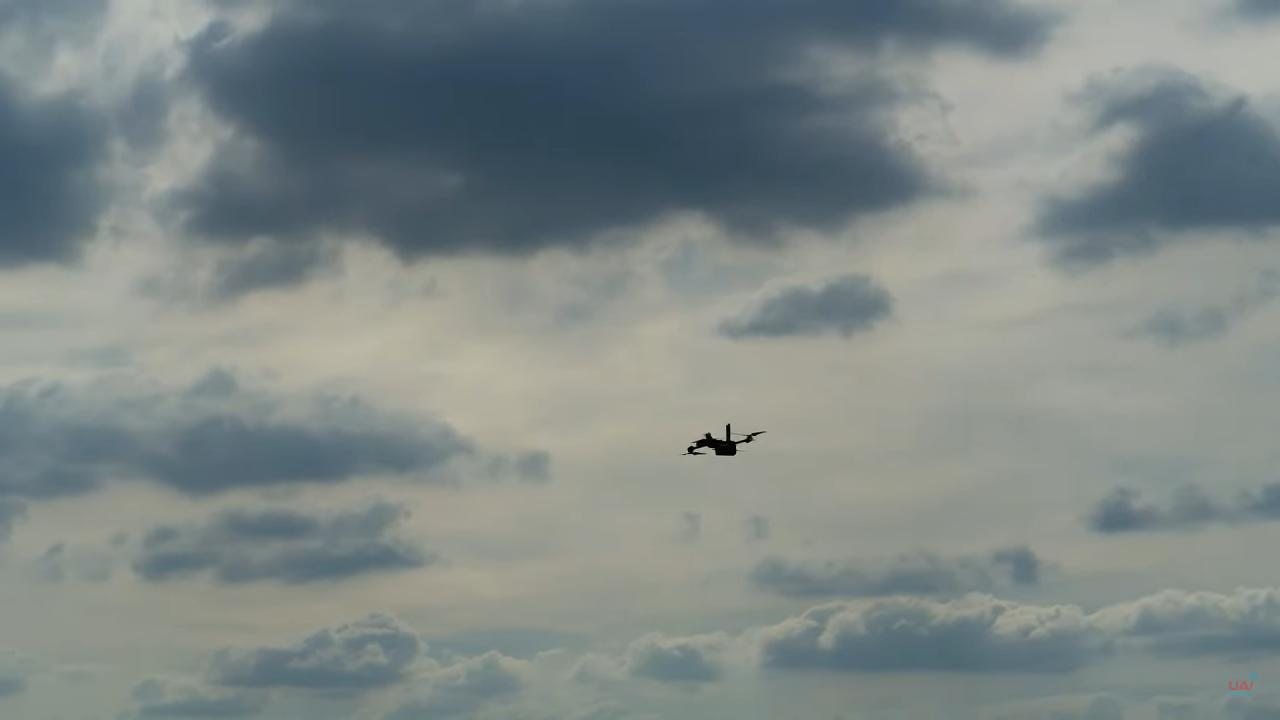Drone: (668, 415, 775, 475)
